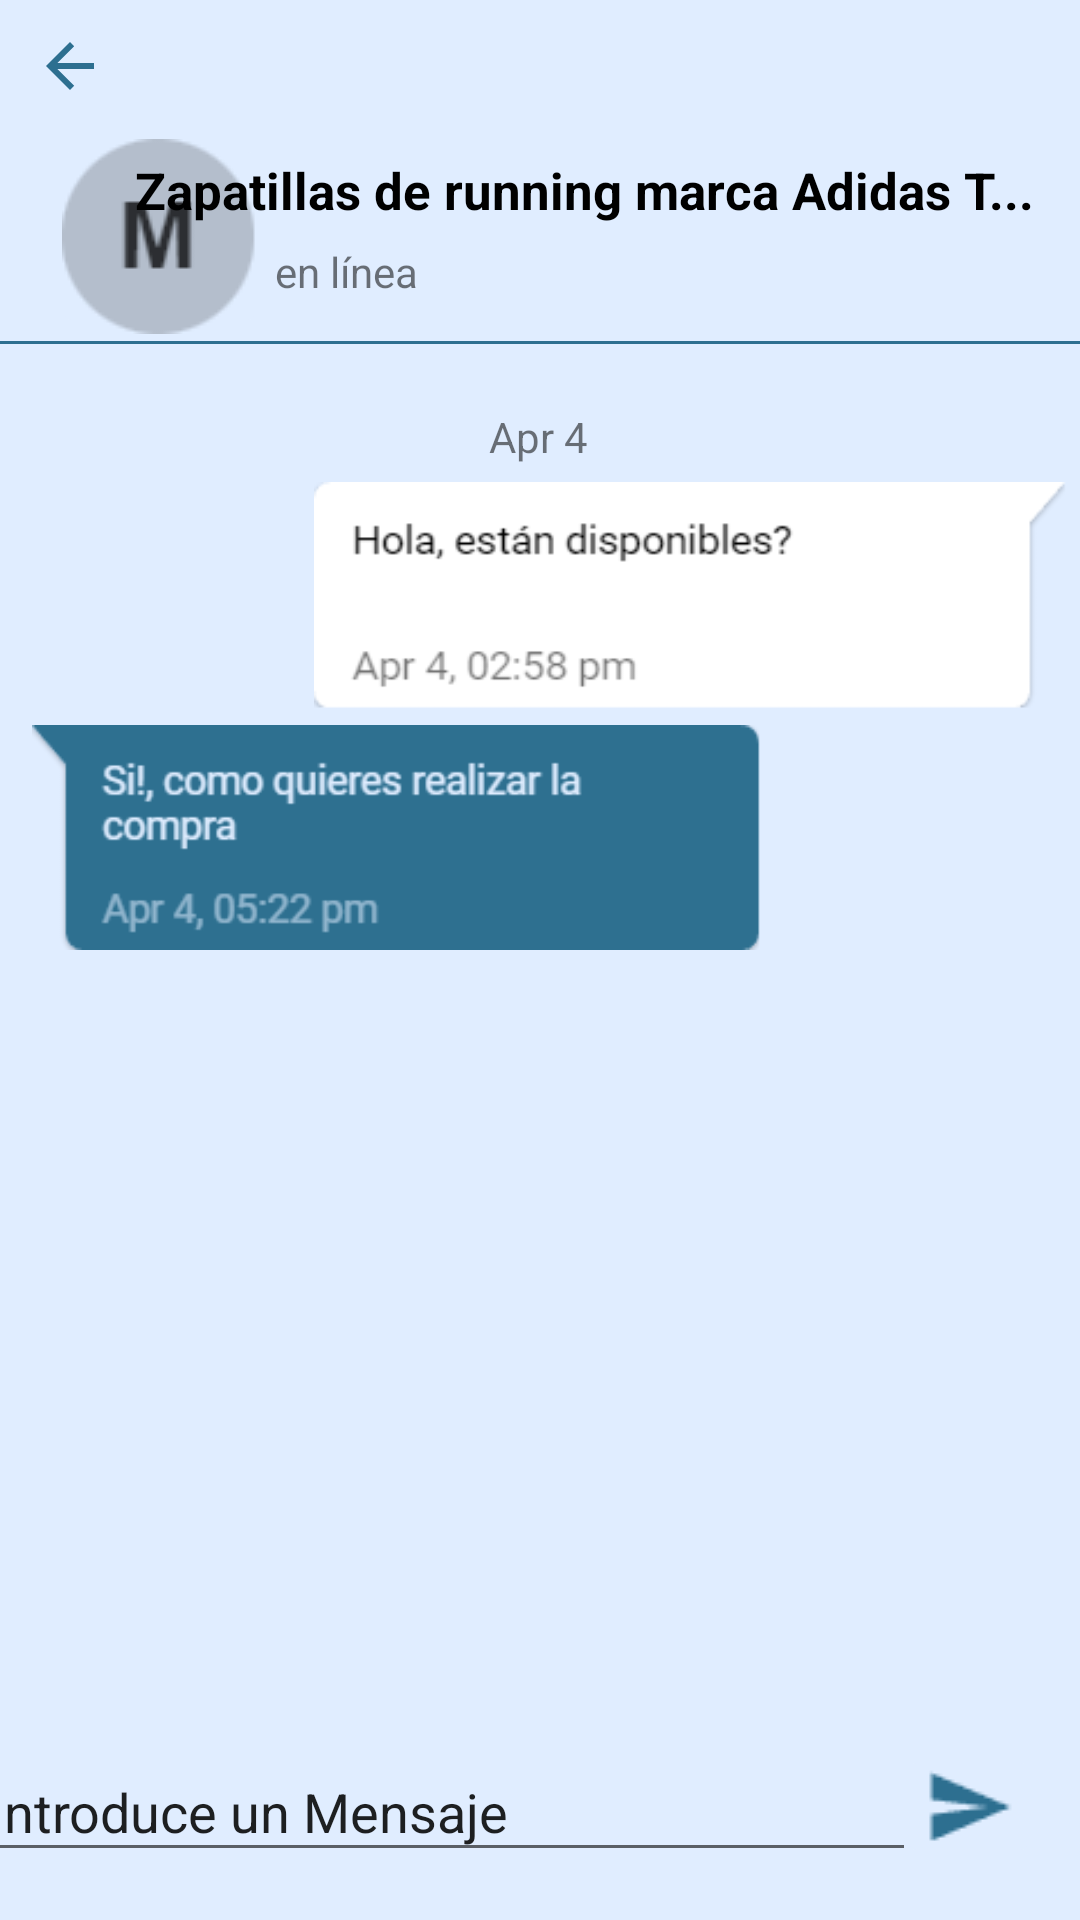

Point at icon controls on the screen. Image size 1080px x 1920px, points as [x,y].
avion: [969,1807]
